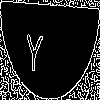Y: (25, 25, 44, 72)
